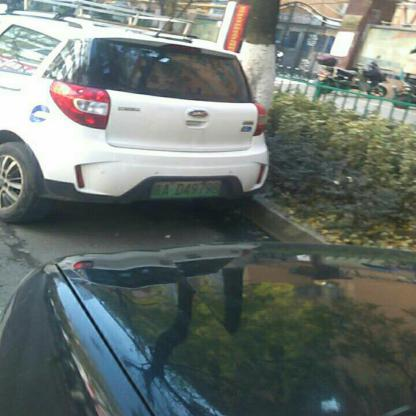lp: (152, 179, 224, 200)
